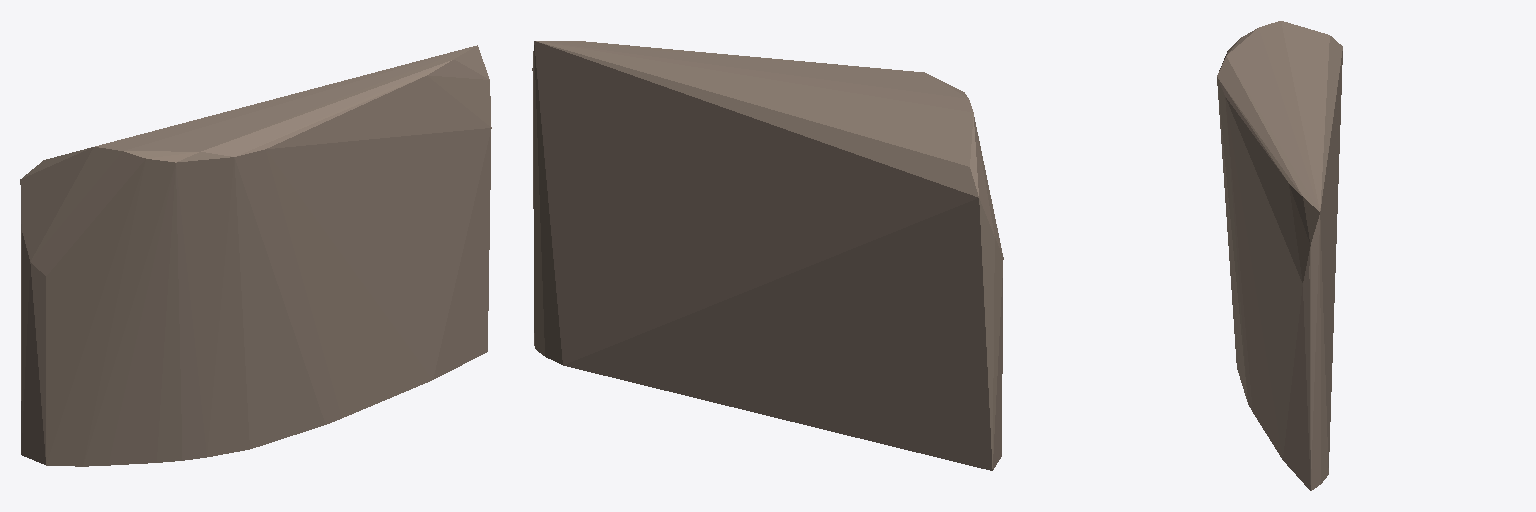
robot.urdf — obj_02:
<?xml version="1.0"?>
<robot name="obj_02">
  <!-- woven basket: plastic, 677 g. Written by Darius 0.2.0. Link frame: +z up, origin at the capture-time bounding-box center; place it at the pose in world.json -->
  <mujoco>
    <compiler meshdir="../meshes/" discardvisual="true" balanceinertia="true" fusestatic="false" />
  </mujoco>
  <link name="obj_02">
    <inertial>
      <origin xyz="0.00307 -0.00291 0.04793" rpy="0 0 0" />
      <mass value="0.6772" />
      <inertia ixx="0.00456842" ixy="-0.000859895" ixz="0.000132226" iyy="0.0174402" iyz="0.000218402" izz="0.013824" />
    </inertial>
    <visual>
      <geometry>
        <mesh filename="../meshes/obj_02_visual.obj" />
      </geometry>
      <material name="obj_02_color">
        <color rgba="0.596 0.537 0.49 1" />
      </material>
    </visual>
    <collision name="obj_02_part0">
      <geometry>
        <mesh filename="../meshes/obj_02_part0.obj" />
      </geometry>
    </collision>
    <collision name="obj_02_part1">
      <geometry>
        <mesh filename="../meshes/obj_02_part1.obj" />
      </geometry>
    </collision>
    <collision name="obj_02_part2">
      <geometry>
        <mesh filename="../meshes/obj_02_part2.obj" />
      </geometry>
    </collision>
    <collision name="obj_02_part3">
      <geometry>
        <mesh filename="../meshes/obj_02_part3.obj" />
      </geometry>
    </collision>
    <collision name="obj_02_part4">
      <geometry>
        <mesh filename="../meshes/obj_02_part4.obj" />
      </geometry>
    </collision>
    <collision name="obj_02_part5">
      <geometry>
        <mesh filename="../meshes/obj_02_part5.obj" />
      </geometry>
    </collision>
    <collision name="obj_02_part6">
      <geometry>
        <mesh filename="../meshes/obj_02_part6.obj" />
      </geometry>
    </collision>
    <collision name="obj_02_part7">
      <geometry>
        <mesh filename="../meshes/obj_02_part7.obj" />
      </geometry>
    </collision>
    <contact>
      <lateral_friction value="0.5" />
      <restitution value="0.15" />
    </contact>
  </link>
</robot>

--- Render facts (derived) ---
The picture shows the robot from 3 angles, left to right: view 1: azimuth 30°, elevation 25°; view 2: azimuth 150°, elevation 25°; view 3: azimuth 270°, elevation 25°; orthographic projection.
Robot: obj_02 — 1 links, 0 joints (none); root link obj_02; default pose: all joints at 0.
Visible links, largest first — view 1: obj_02; view 2: obj_02; view 3: obj_02.
Boxes of the visible links, bbox=[...] form: obj_02: bbox=[20, 45, 491, 466]; obj_02: bbox=[532, 41, 1003, 470]; obj_02: bbox=[1217, 21, 1342, 490].
Bounding box of the posed robot: 0.398 × 0.1042 × 0.2633 m (x, y, z).
1 mesh visuals loaded from 1 distinct referenced files (1 OBJ).
